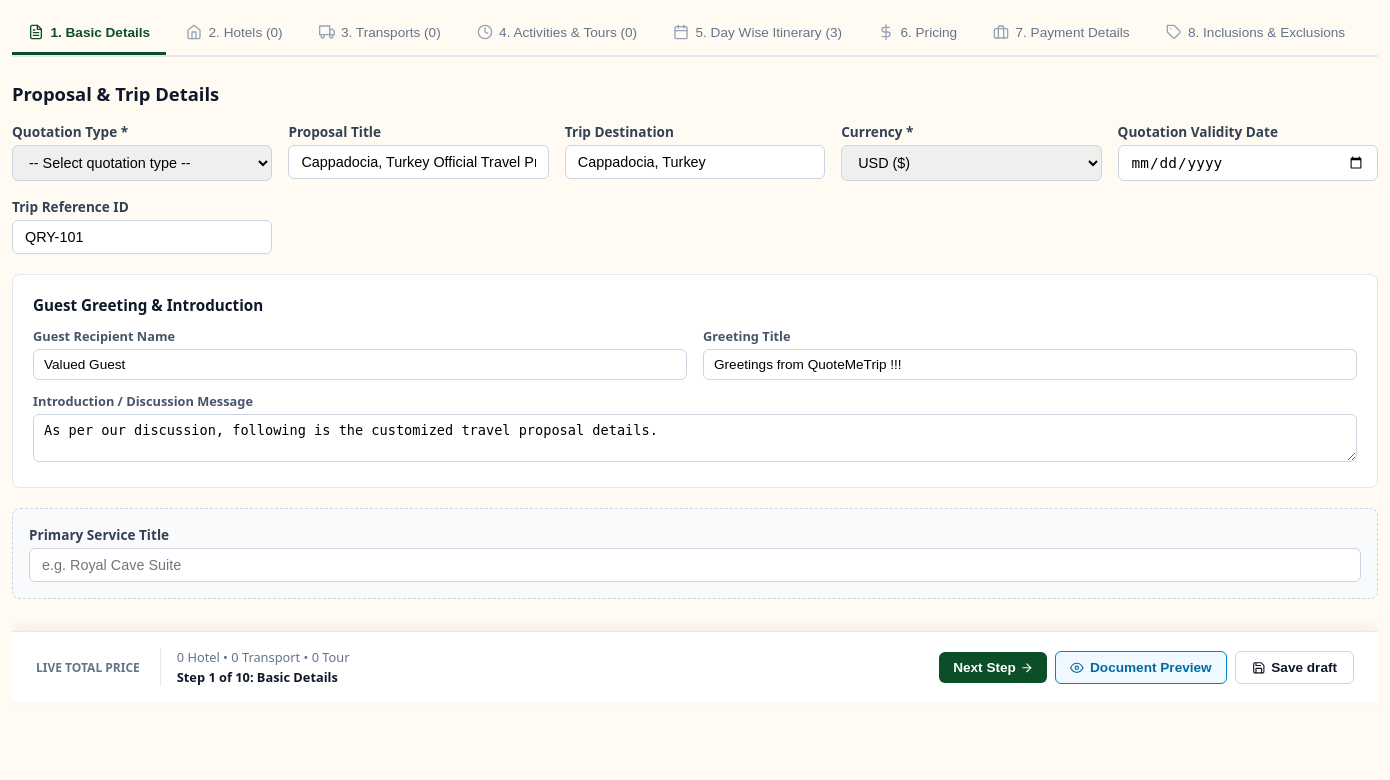
Test case: quotation form › validation blocks submit without a quotation type
This screenshot has width=1390, height=780.
Click the button "Save draft": {"x": 1294, "y": 667} 1235,651 -> 1354,684
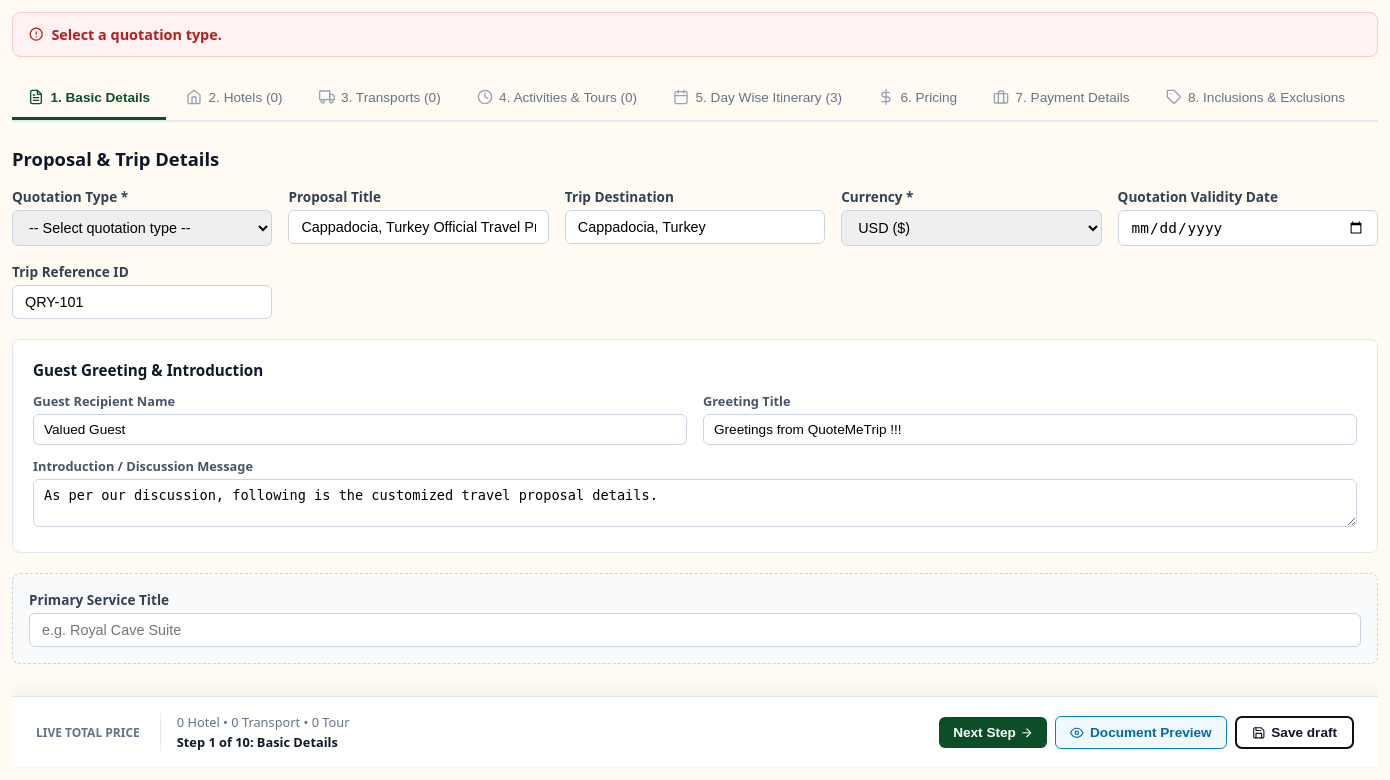
Check: the text "Select a quotation type." is shown, box 51,25 -> 222,44
